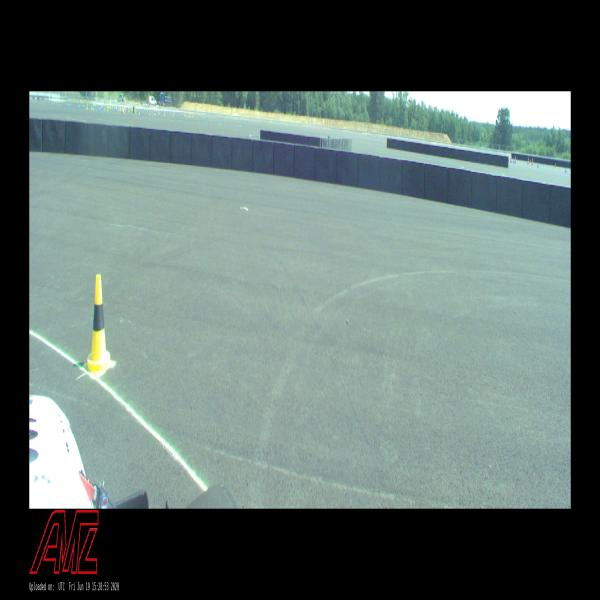yellow_cone: (83, 274, 112, 376)
